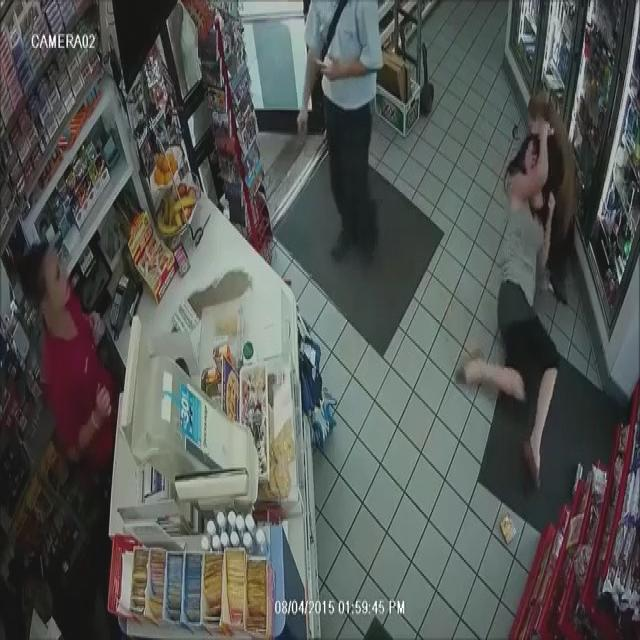fight: (452, 77, 583, 492)
